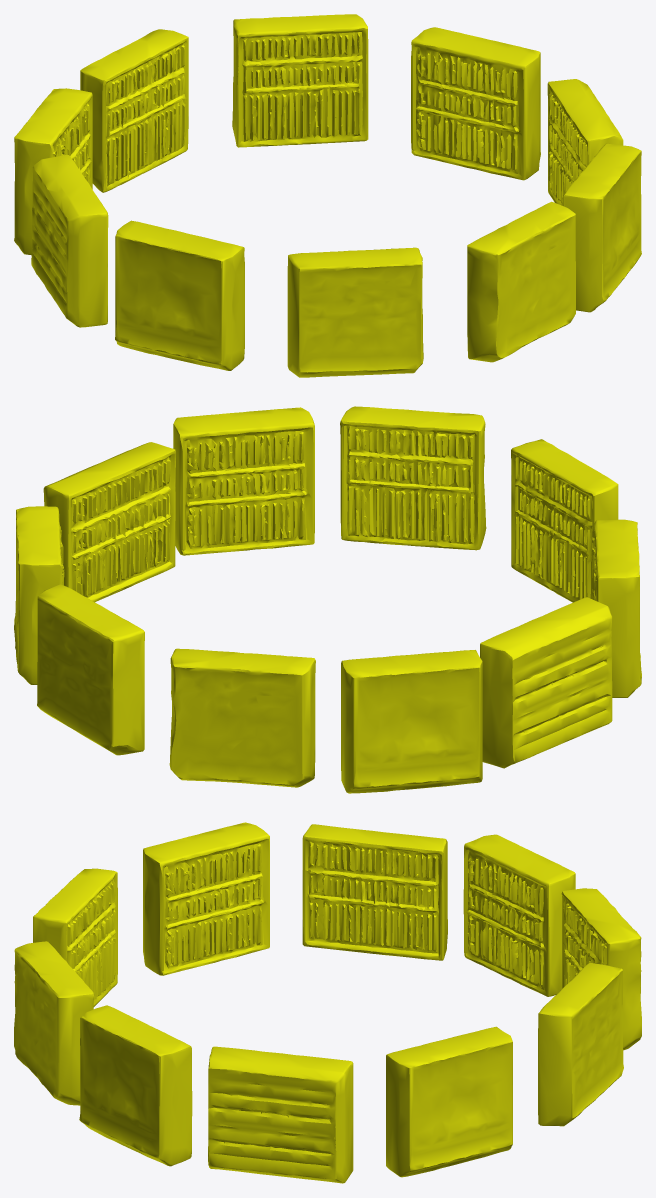
Rendered from Crown.fbx.
3 renders of one model, top to bottom at view 1: azimuth 30°, elevation 25°; view 2: azimuth 150°, elevation 25°; view 3: azimuth 270°, elevation 25°, orthographic. The views are drawn at different scales.
Parts seen in each view (by area): view 1: Crown_09, Crown_07, Crown_02, Crown_01, Crown_03, Crown_10, Crown_06, Crown_05, Crown_08, Crown_04; view 2: Crown_03, Crown_05, Crown_08, Crown_10, Crown_06, Crown_04, Crown_09, Crown_02, Crown_01, Crown_07; view 3: Crown_04, Crown_06, Crown_01, Crown_07, Crown_05, Crown_08, Crown_09, Crown_03, Crown_02, Crown_10.
Boxes of the visible parts, bbox=[...] form: Crown_09: bbox=[232, 14, 368, 147]; Crown_07: bbox=[411, 27, 540, 180]; Crown_02: bbox=[287, 247, 423, 377]; Crown_01: bbox=[115, 220, 244, 370]; Crown_03: bbox=[467, 201, 575, 362]; Crown_10: bbox=[80, 29, 188, 192]; Crown_06: bbox=[31, 154, 108, 327]; Crown_05: bbox=[563, 143, 641, 312]; Crown_08: bbox=[14, 88, 92, 255]; Crown_04: bbox=[547, 79, 623, 205]; Crown_03: bbox=[340, 406, 486, 550]; Crown_05: bbox=[173, 407, 314, 555]; Crown_08: bbox=[341, 650, 482, 793]; Crown_10: bbox=[169, 648, 315, 787]; Crown_06: bbox=[480, 597, 612, 768]; Crown_04: bbox=[43, 442, 175, 602]; Crown_09: bbox=[37, 584, 144, 755]; Crown_02: bbox=[511, 439, 618, 602]; Crown_01: bbox=[591, 519, 641, 697]; Crown_07: bbox=[14, 506, 64, 684]; Crown_04: bbox=[208, 1046, 353, 1183]; Crown_06: bbox=[302, 824, 447, 960]; Crown_01: bbox=[143, 822, 269, 975]; Crown_07: bbox=[386, 1026, 512, 1177]; Crown_05: bbox=[79, 1005, 192, 1166]; Crown_08: bbox=[463, 834, 575, 996]; Crown_09: bbox=[538, 962, 623, 1126]; Crown_03: bbox=[14, 941, 94, 1105]; Crown_02: bbox=[33, 868, 117, 1006]; Crown_10: bbox=[561, 888, 641, 1050].
Size of the model in its own units: 170 by 36.61 by 176.
